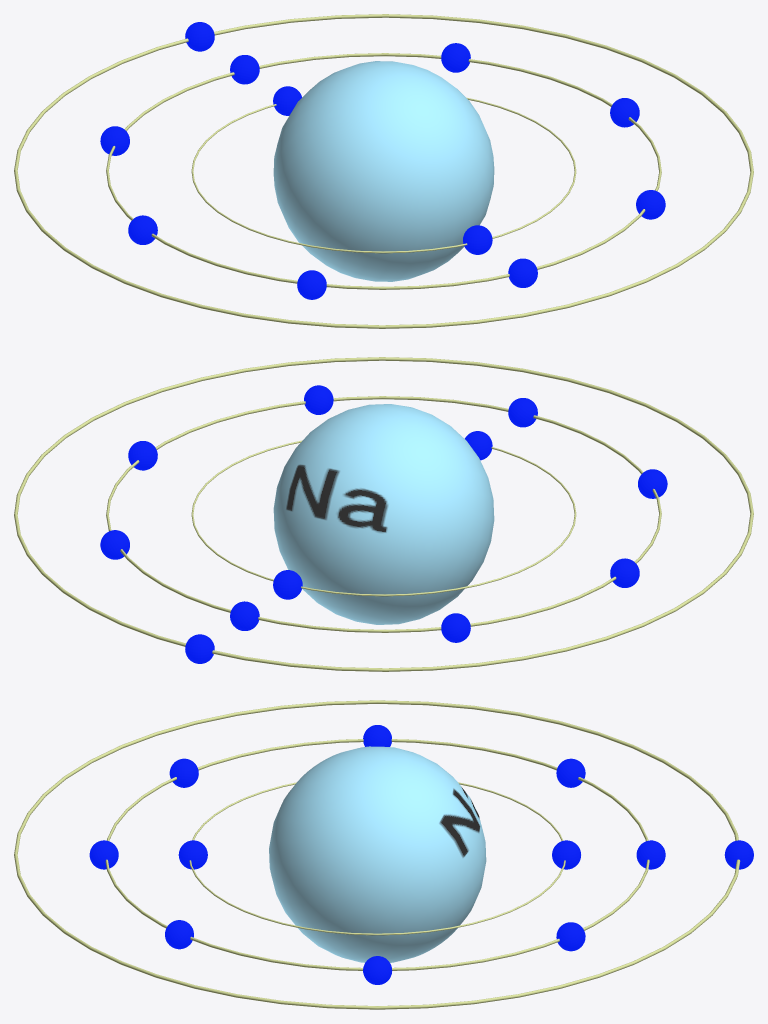
3 renders of one model, top to bottom at view 1: azimuth 30°, elevation 25°; view 2: azimuth 150°, elevation 25°; view 3: azimuth 270°, elevation 25°, orthographic.
Parts seen in each view (by area): view 1: 球体, 贝塞尔圆环.002, 贝塞尔圆环.001, 贝塞尔圆环, 球体.008, 球体.002, 球体.009, 球体.004, 球体.003, 球体.007, 球体.006, 球体.010 (+3 smaller); view 2: 球体, 贝塞尔圆环.002, 贝塞尔圆环.001, 贝塞尔圆环, 球体.005, 球体.001, 球体.003, 球体.010, 球体.007, 球体.009, 球体.006, 球体.002 (+3 smaller); view 3: 球体, 贝塞尔圆环.002, 贝塞尔圆环.001, 贝塞尔圆环, 球体.002, 球体.011, 球体.001, 球体.005, 球体.010, 球体.004, 球体.008, 球体.009 (+3 smaller).
Part boxes in pixels (x1,y1,x2,y2): 球体: (273,61,494,281); 贝塞尔圆环.002: (14,14,753,328); 贝塞尔圆环.001: (106,53,661,289); 贝塞尔圆环: (191,97,576,253); 球体.008: (297,270,326,299); 球体.002: (441,43,470,72); 球体.009: (508,258,537,287); 球体.004: (463,225,492,254); 球体.003: (185,22,214,51); 球体.007: (230,55,259,84); 球体.006: (128,215,157,244); 球体.010: (636,190,665,219); 球体: (273,404,494,624); 贝塞尔圆环.002: (14,357,753,671); 贝塞尔圆环.001: (106,396,661,632); 贝塞尔圆环: (191,440,576,596); 球体.005: (441,613,470,642); 球体.001: (273,570,302,599); 球体.003: (185,634,214,663); 球体.010: (304,385,333,414); 球体.007: (230,601,259,630); 球体.009: (508,398,537,427); 球体.006: (610,558,639,587); 球体.002: (100,530,129,559); 球体: (269,746,486,962); 贝塞尔圆环.002: (14,700,740,1009); 贝塞尔圆环.001: (105,739,649,970); 贝塞尔圆环: (189,782,565,935); 球体.002: (556,922,585,951); 球体.011: (363,956,392,984); 球体.001: (552,840,580,869); 球体.005: (556,758,585,787); 球体.010: (165,920,193,949); 球体.004: (178,840,207,869); 球体.008: (169,758,198,787); 球体.009: (89,840,118,869).
Size of the model in its own units: 2.34 by 0.6996 by 2.38.
3 materials, 1 textured.
